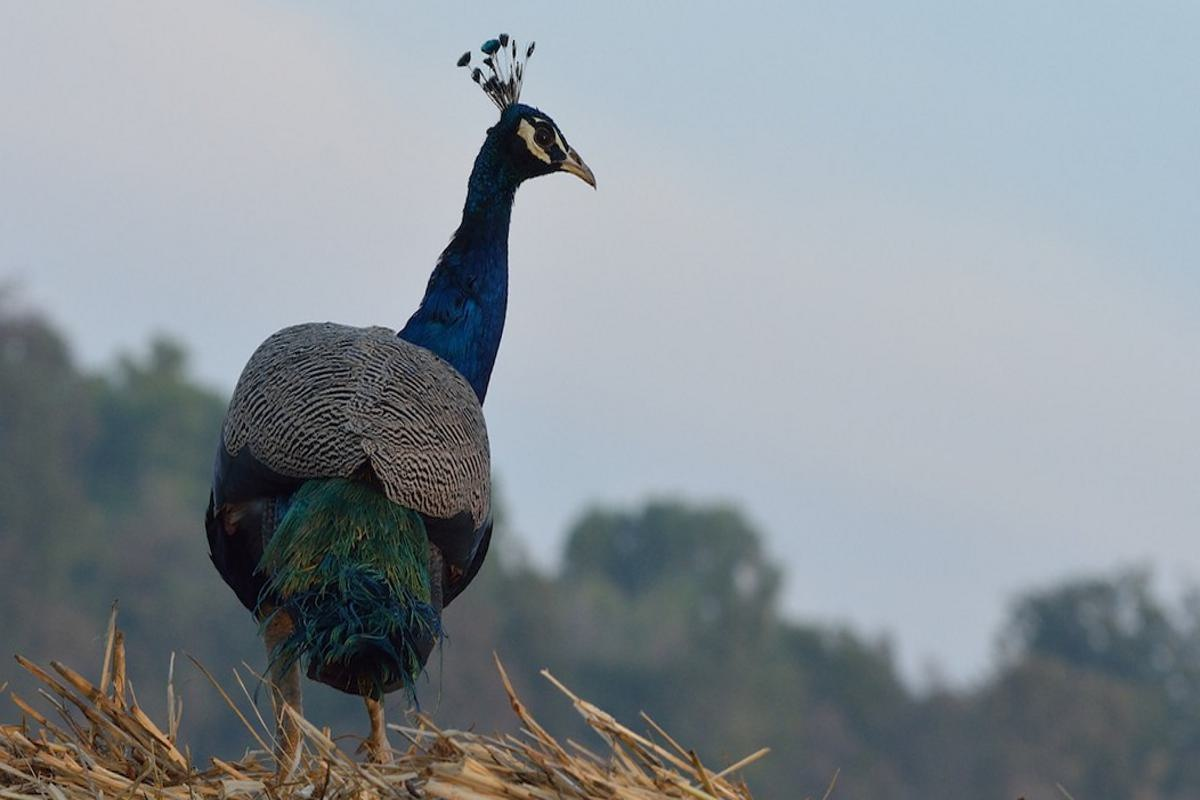peacock: (230, 16, 640, 775)
